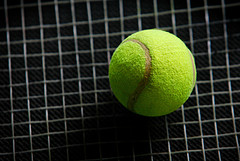tennis ball: (104, 27, 199, 118)
